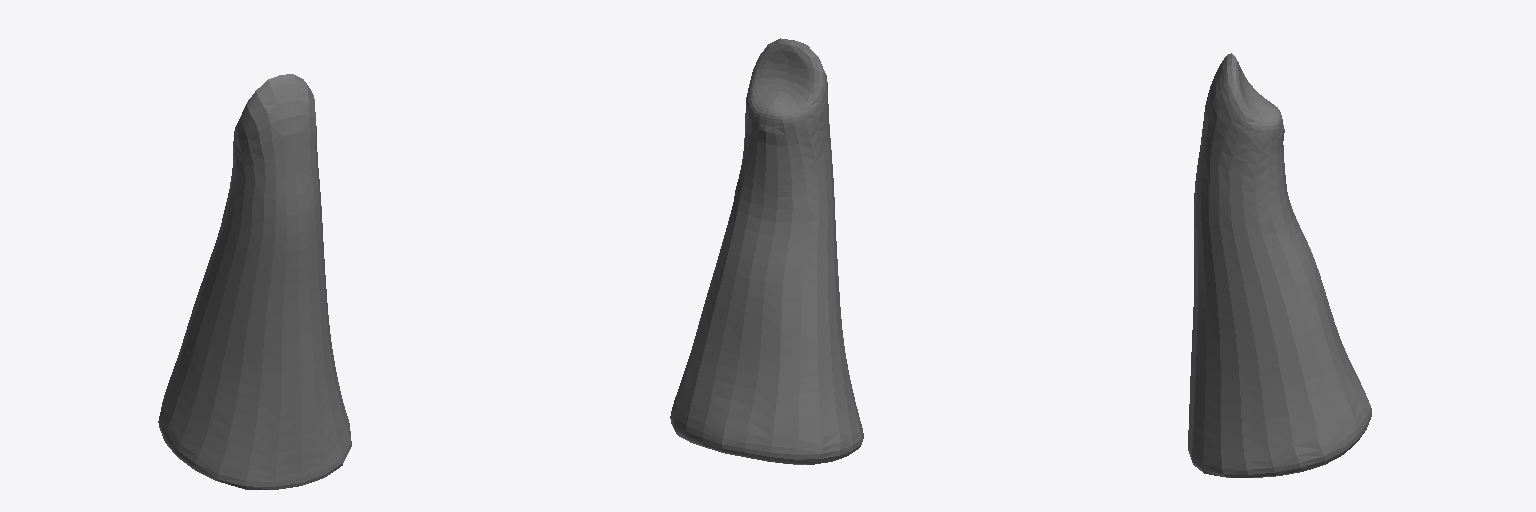
File: dress_UV.obj
3 renders of one model, left to right at view 1: azimuth 30°, elevation 25°; view 2: azimuth 150°, elevation 25°; view 3: azimuth 270°, elevation 25°, orthographic.
Parts seen in each view (by area): view 1: dress group1; view 2: dress group1; view 3: dress group1.
Boxes of the visible parts, x1=… form: dress group1: x1=158, y1=74, x2=351, y2=489; dress group1: x1=670, y1=38, x2=863, y2=464; dress group1: x1=1188, y1=53, x2=1371, y2=477.
Size of the model in its own units: 33.08 by 76.18 by 32.12.